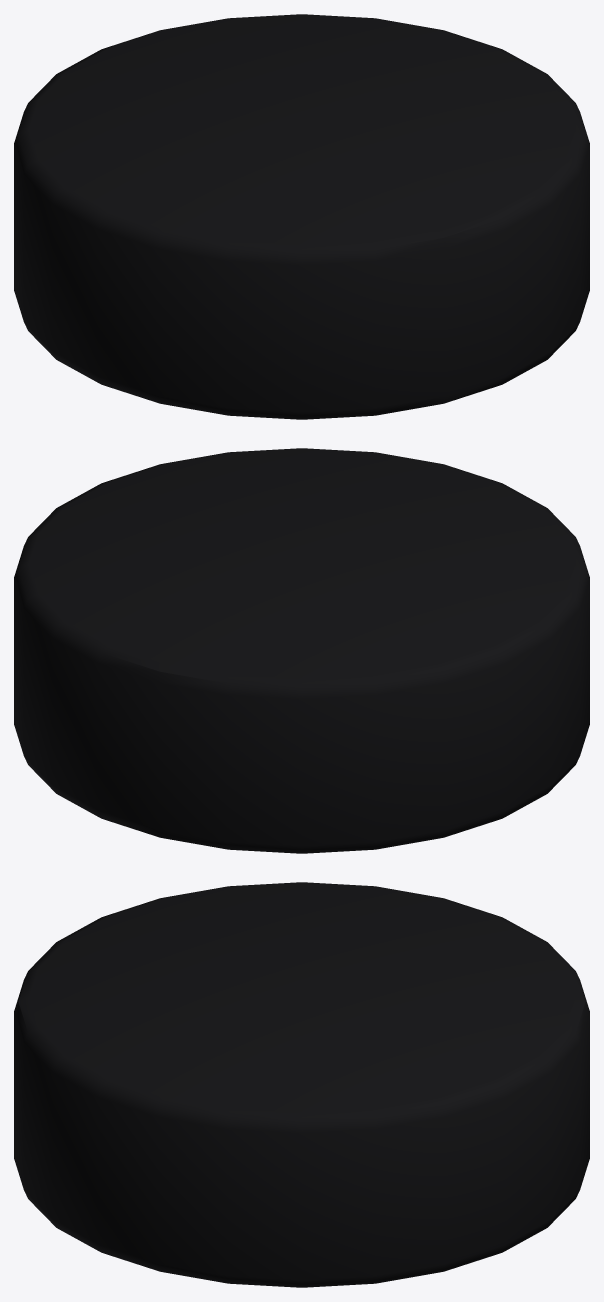
Rendered from disco.obj.
The picture shows the model from 3 angles, top to bottom: view 1: azimuth 30°, elevation 25°; view 2: azimuth 150°, elevation 25°; view 3: azimuth 270°, elevation 25°; orthographic projection.
Parts seen in each view (by area): view 1: disco; view 2: disco; view 3: disco.
Boxes of the visible parts, <box> form: disco: <box>14,14,589,419</box>; disco: <box>14,448,589,853</box>; disco: <box>14,882,589,1287</box>.
Size of the model in its own units: 0.0762 by 0.0254 by 0.0762.
Materials: 1 (1 with a texture image).
